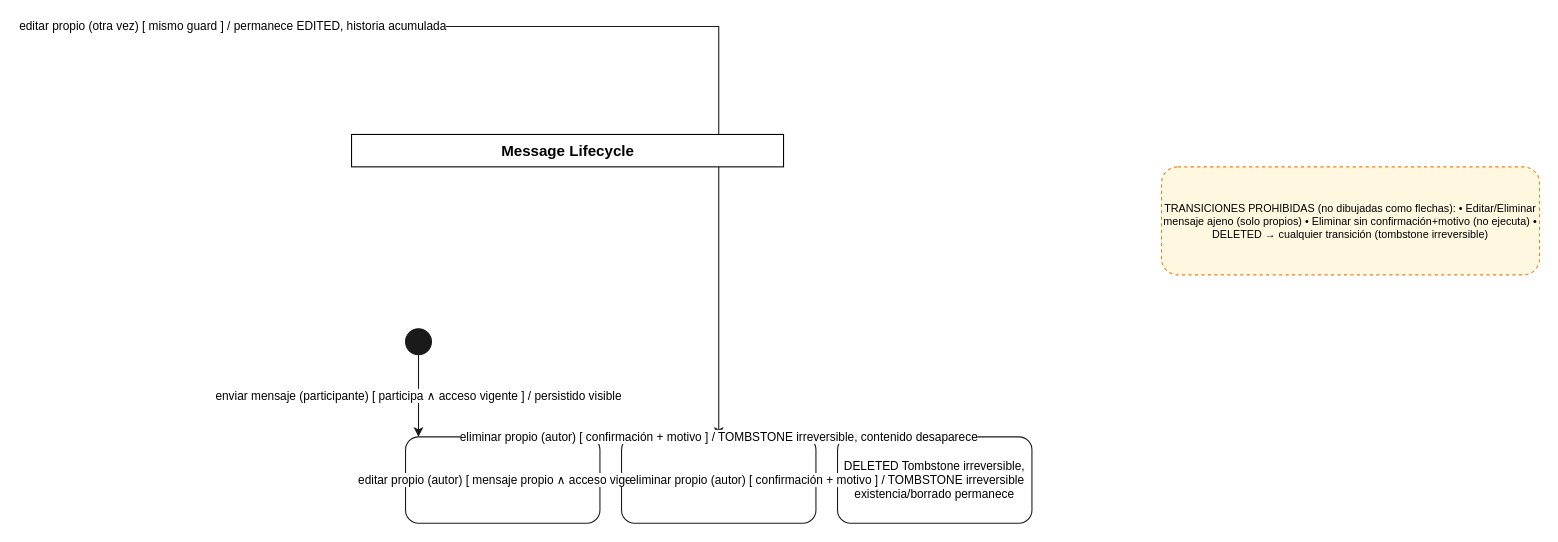
This 1558x542 diagram has some shape labels left out. Each missing label, with the centre of its shape:
"EDITED Mensaje corregido ≥1 vez, historia expuesta con fecha real y actor" goes at pixel 718 479.
"SENT Mensaje persistido visible para participantes autorizados" goes at pixel 502 479.
